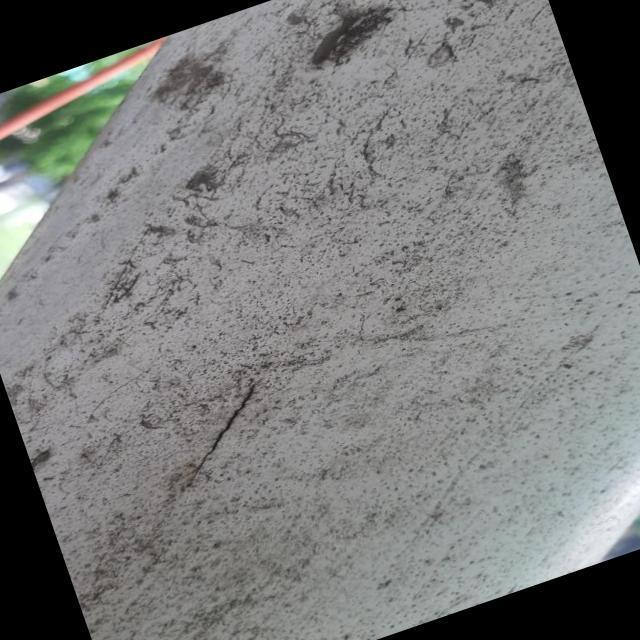defect: (186, 371, 268, 489)
